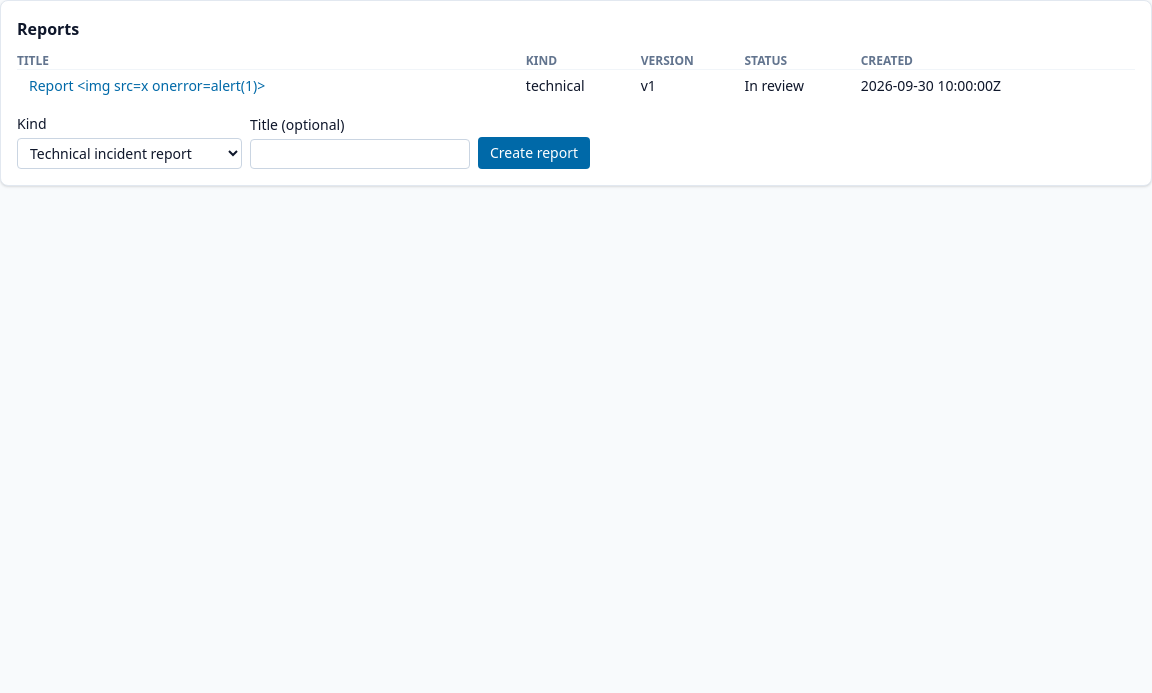
Scenario: reports tab › hides approve from the submitter (four eyes)
Click the button "Report <img src=x onerror=alert(1)>".
click(147, 86)  # box [17, 70, 277, 102]
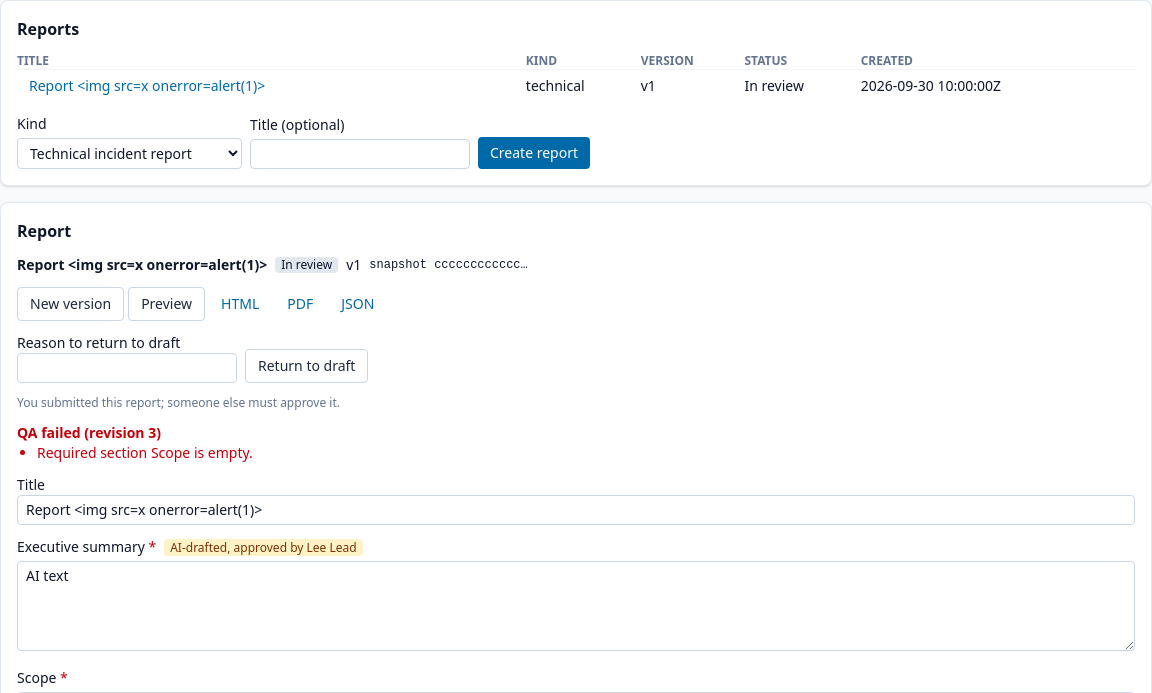
Result: the text "You submitted this report; someone else must approve it." is shown at [17, 394, 340, 411]
